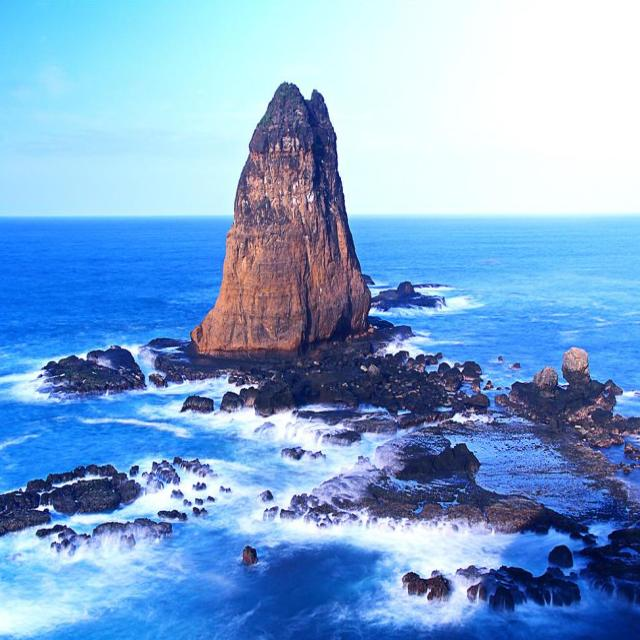reef: (193, 66, 382, 381)
